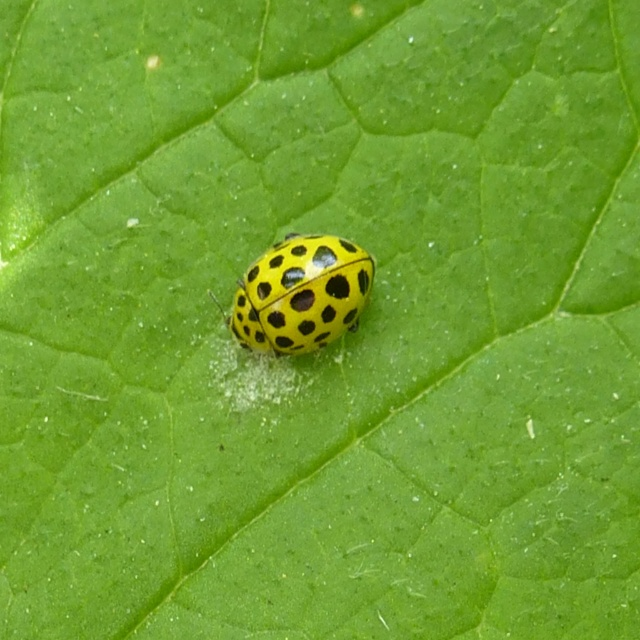Ladybug: (207, 230, 378, 363)
